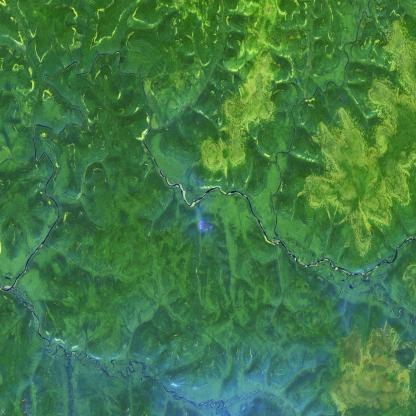fire: (194, 216, 216, 236)
